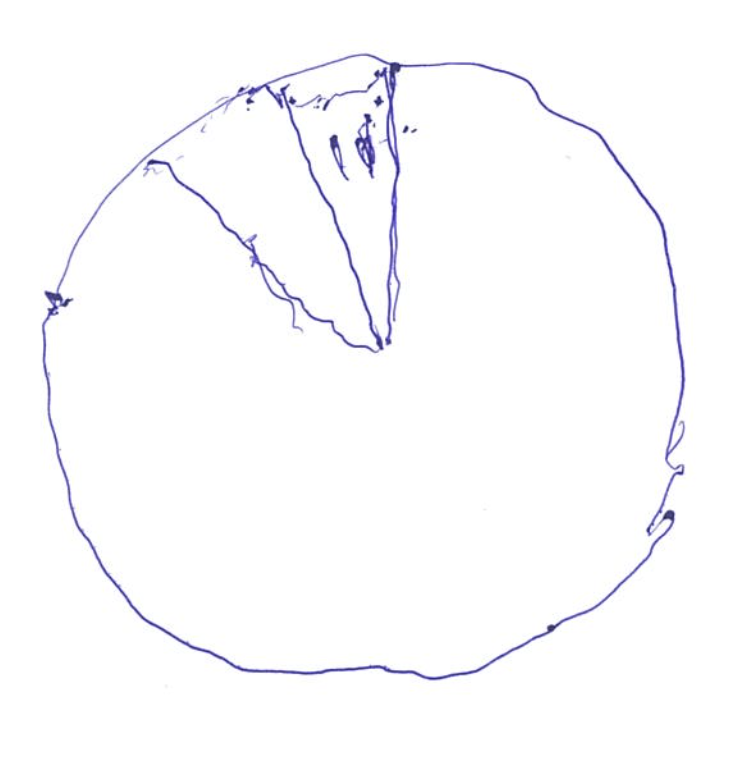contour: (34, 54, 693, 691)
